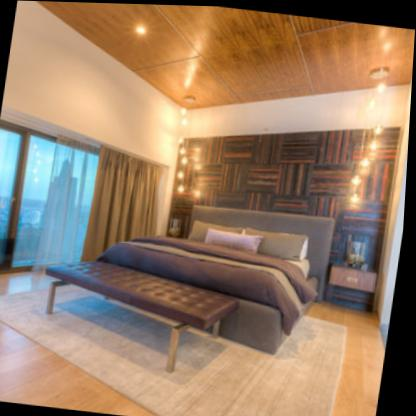Curtains: (84, 145, 164, 263)
Wall Panel: (169, 123, 401, 269)
Wooden floor: (0, 320, 162, 416), (315, 304, 389, 416)
